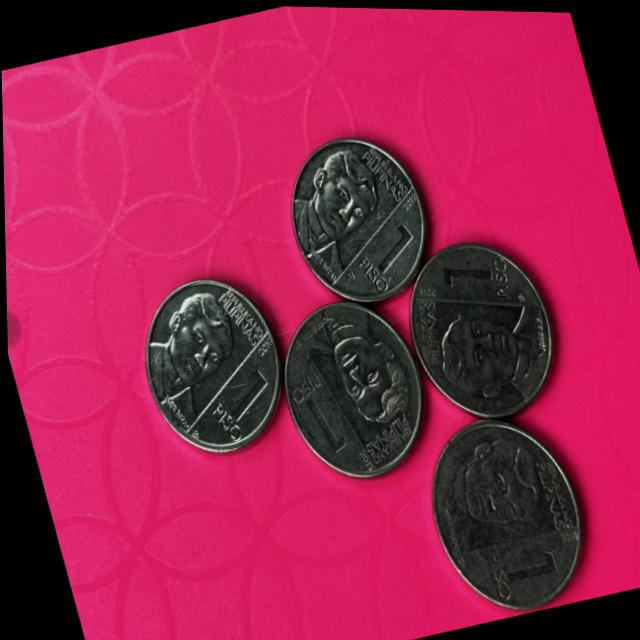1_New_Front: (190, 354, 285, 447), (337, 208, 427, 306), (341, 207, 431, 298), (485, 522, 567, 609), (288, 364, 352, 466), (432, 244, 516, 308), (433, 244, 518, 306)
